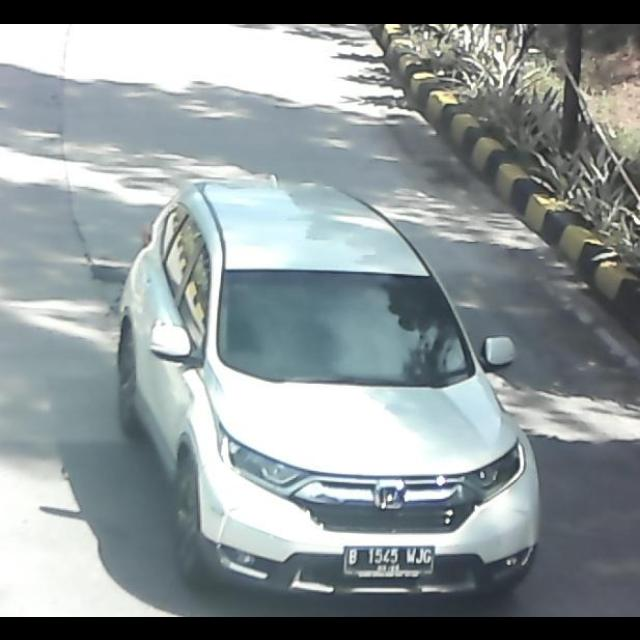plate: (342, 546, 436, 576)
